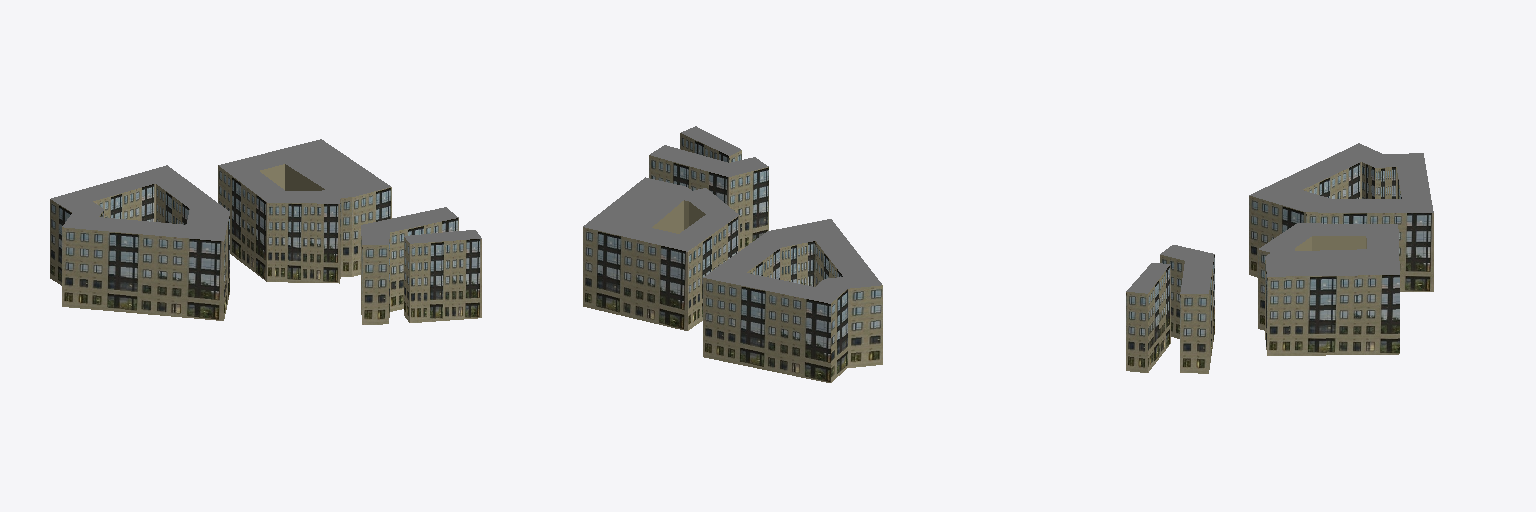
The picture shows the model from 3 angles: view 1: azimuth 30°, elevation 25°; view 2: azimuth 150°, elevation 25°; view 3: azimuth 270°, elevation 25°; orthographic projection.
Parts seen in each view (by area): view 1: Building1_Plane, Building2_Plane.001, Building3_Plane.002; view 2: Building1_Plane, Building2_Plane.001, Building3_Plane.002; view 3: Building2_Plane.001, Building1_Plane, Building3_Plane.002.
Boxes of the visible parts, x1=… form: Building1_Plane: x1=50, y1=165, x2=229, y2=320; Building2_Plane.001: x1=218, y1=139, x2=391, y2=283; Building3_Plane.002: x1=361, y1=207, x2=481, y2=324; Building1_Plane: x1=703, y1=219, x2=882, y2=382; Building2_Plane.001: x1=583, y1=177, x2=739, y2=330; Building3_Plane.002: x1=649, y1=126, x2=768, y2=250; Building2_Plane.001: x1=1258, y1=223, x2=1399, y2=355; Building1_Plane: x1=1249, y1=143, x2=1433, y2=291; Building3_Plane.002: x1=1126, y1=245, x2=1214, y2=373.
Size of the model in its own units: 2.03 by 0.532 by 1.75.
Materials: 6 (2 with a texture image).